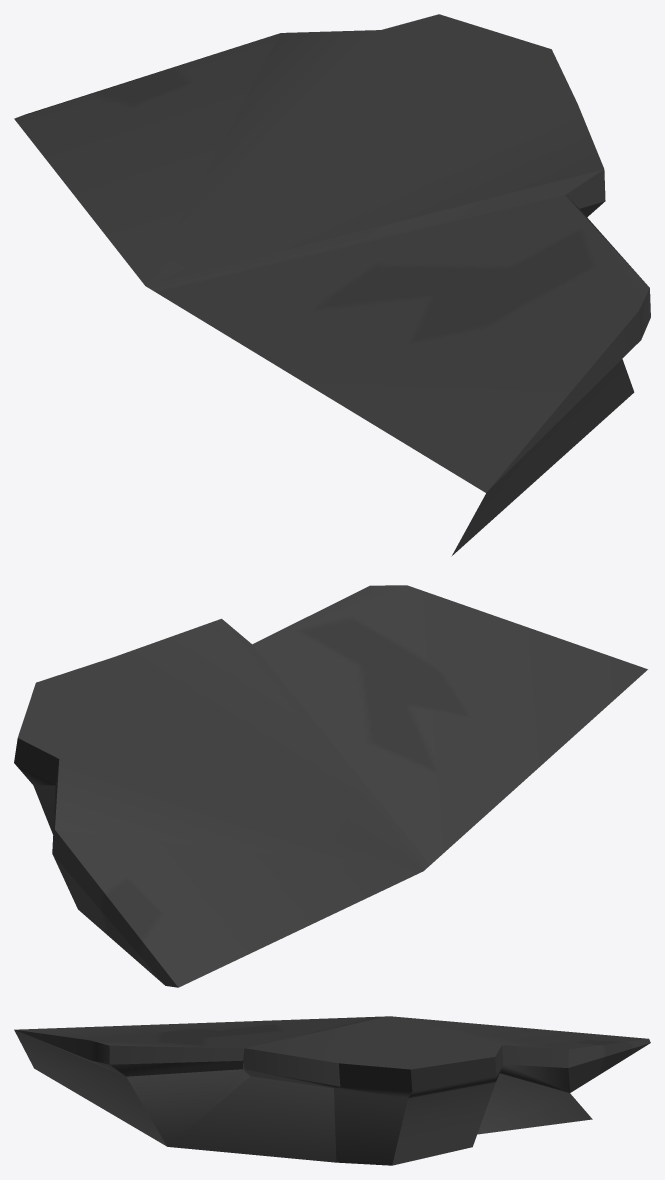
Rendered from SM_Env_RoadPiece_Damaged_11.glb.
3 views of the same model, one above another, from view 1: azimuth 30°, elevation 25°; view 2: azimuth 150°, elevation 25°; view 3: azimuth 270°, elevation 25° (orthographic). The views are drawn at different scales.
Parts seen in each view (by area): view 1: SM_Env_RoadPiece_Damaged_11; view 2: SM_Env_RoadPiece_Damaged_11; view 3: SM_Env_RoadPiece_Damaged_11.
Boxes of the visible parts, x1,y1,x2,y2 form: SM_Env_RoadPiece_Damaged_11: (14, 14, 650, 556); SM_Env_RoadPiece_Damaged_11: (14, 585, 647, 987); SM_Env_RoadPiece_Damaged_11: (14, 1016, 650, 1165).
Bounding box in the file's own units: 0.8929 × 0.3867 × 1.83.
Materials: 1 (1 with a texture image).
